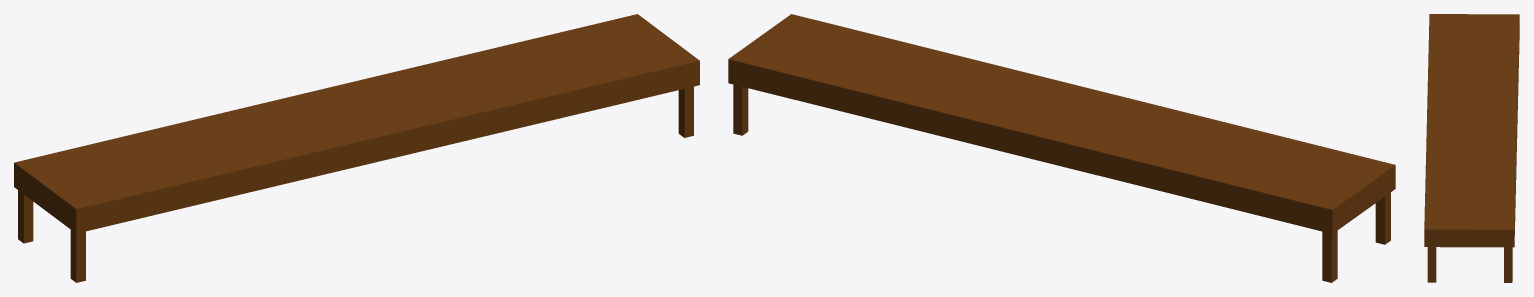
Rendered from table.fbx.
3 views of the same model, side by side, from view 1: azimuth 30°, elevation 25°; view 2: azimuth 150°, elevation 25°; view 3: azimuth 270°, elevation 25° (orthographic). The views are drawn at different scales.
Parts seen in each view (by area): view 1: Cube.349; view 2: Cube.349; view 3: Cube.349.
Boxes of the visible parts, x1,y1,x2,y2 form: Cube.349: [14, 14, 699, 282]; Cube.349: [728, 14, 1395, 282]; Cube.349: [1424, 14, 1519, 282].
Size of the model in its own units: 376 by 44.04 by 70.25.
